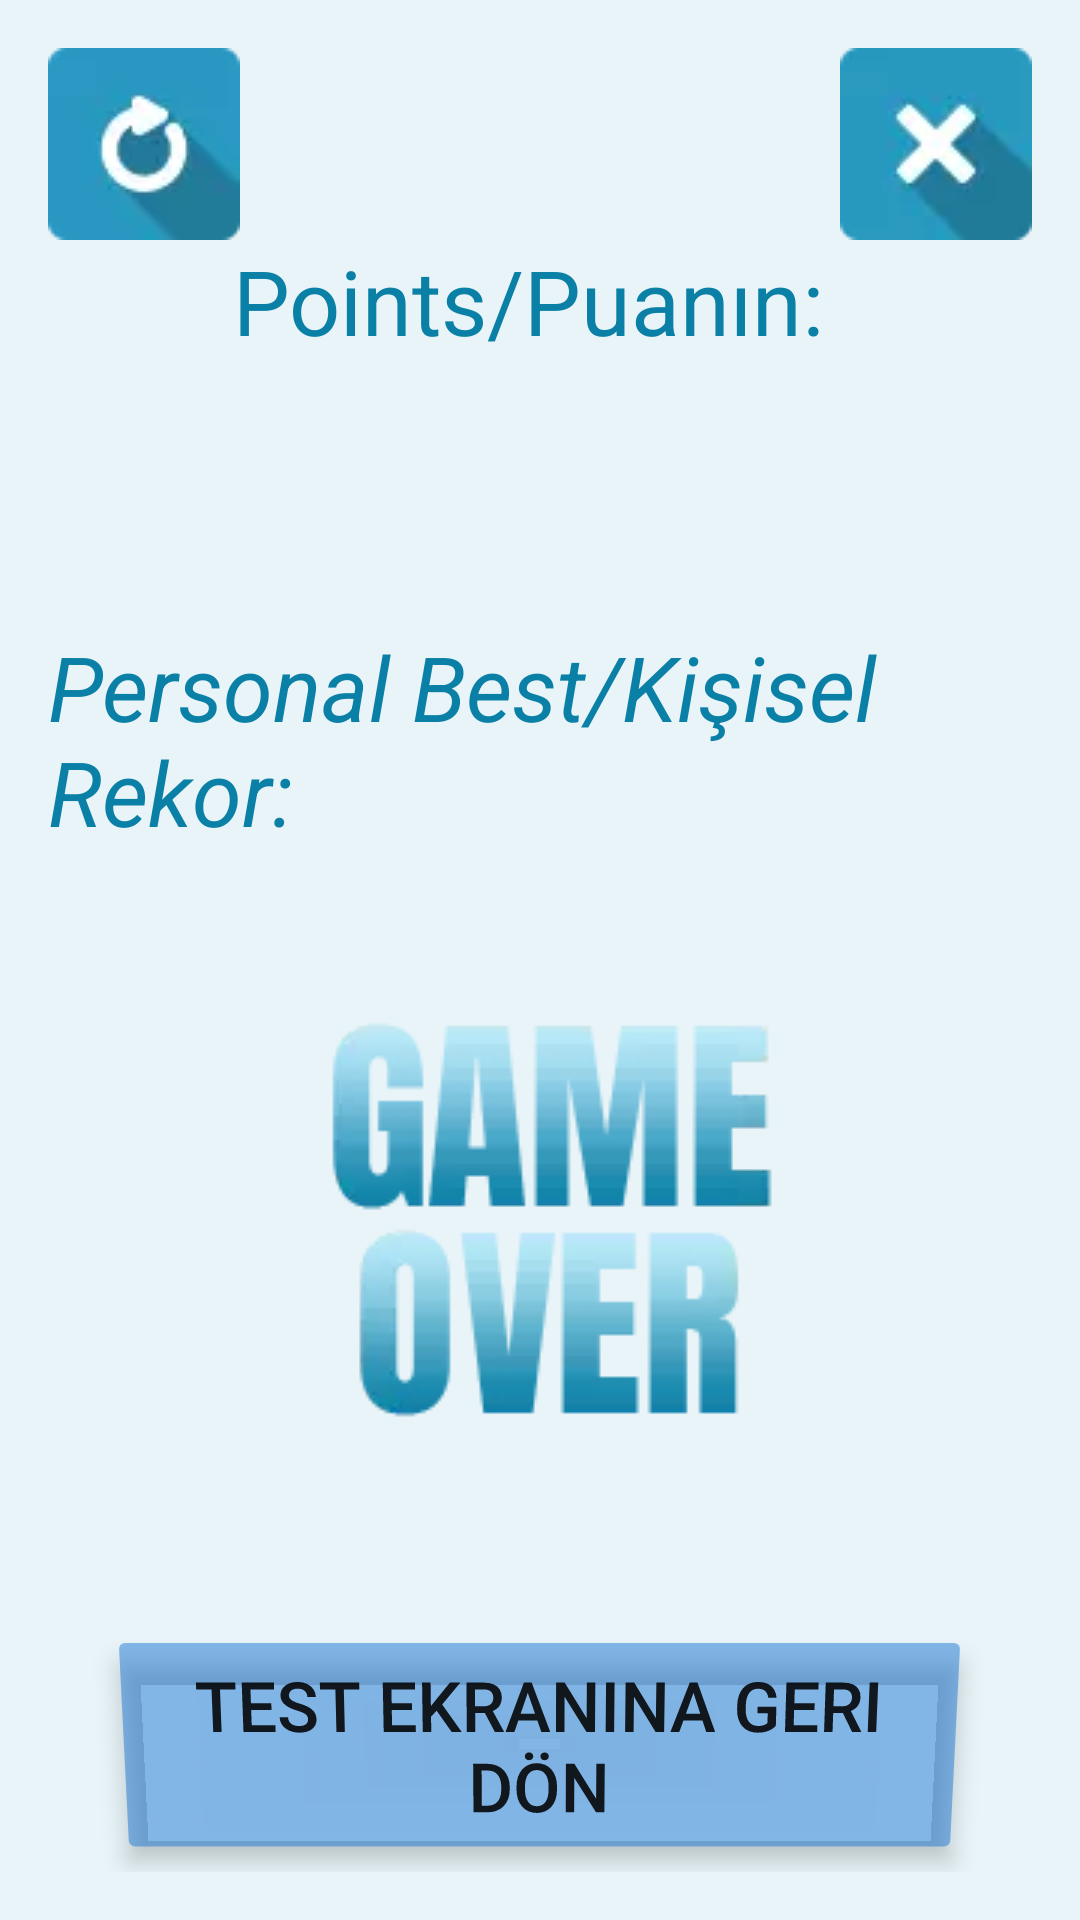

Icon click points for this 1080 x 1920 phone screenshot, format [x,y]:
exit: [936,144]
restart: [144,144]
